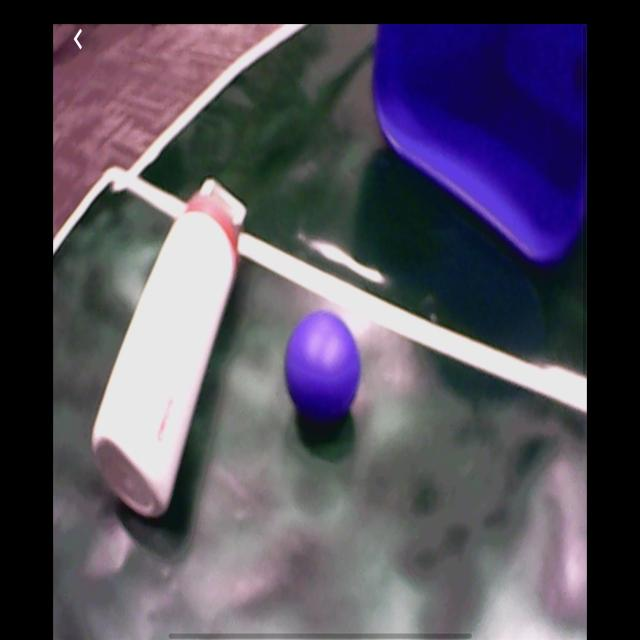ball: (285, 311, 364, 427)
